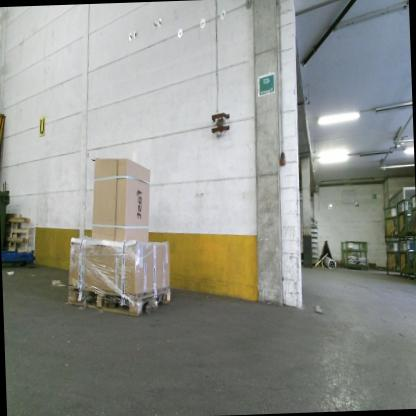pallet: (63, 272, 172, 315), (2, 211, 34, 260)
stillage: (338, 235, 369, 272), (397, 195, 414, 241), (383, 240, 401, 278), (383, 203, 400, 238), (398, 239, 409, 280), (407, 238, 416, 282), (410, 189, 416, 234), (412, 236, 416, 282)
